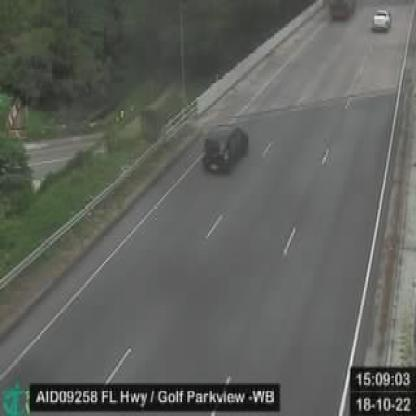Car: (201, 124, 248, 179), (371, 10, 391, 32)
